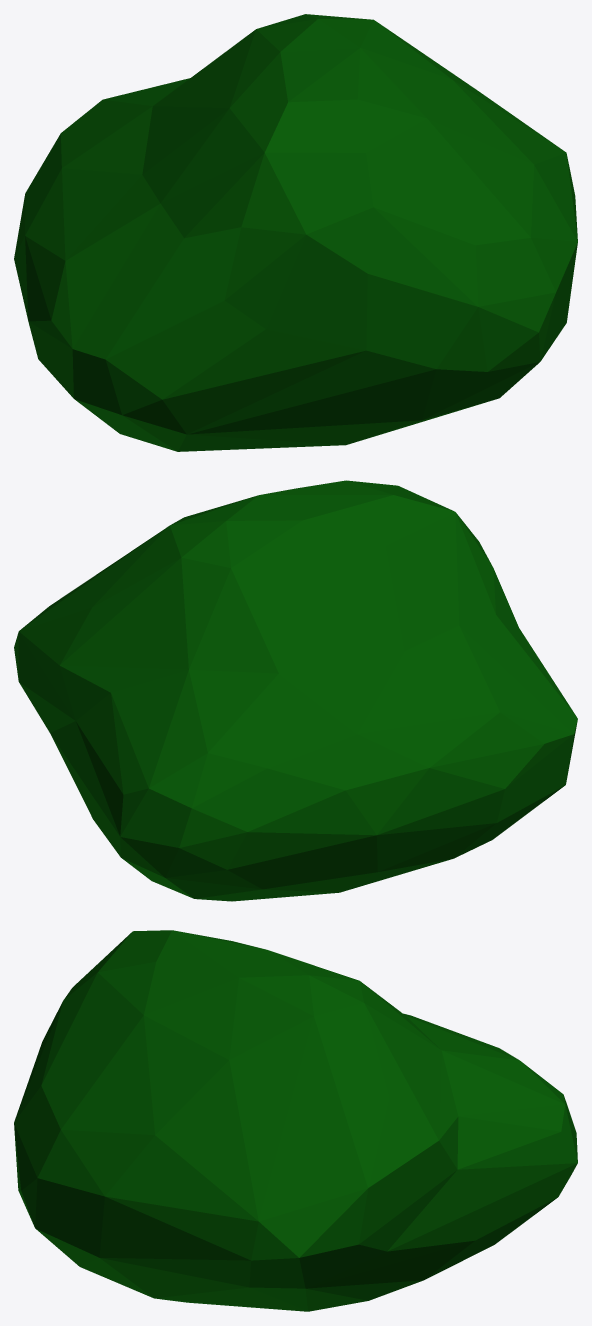
File: Arbusto_1.fbx
3 renders of one model, top to bottom at view 1: azimuth 30°, elevation 25°; view 2: azimuth 150°, elevation 25°; view 3: azimuth 270°, elevation 25°, orthographic. The views are drawn at different scales.
Visible parts, largest first — view 1: Arbusto_1; view 2: Arbusto_1; view 3: Arbusto_1.
Part boxes in pixels (x1,y1,x2,y2): Arbusto_1: (14, 14, 577, 451); Arbusto_1: (14, 480, 577, 901); Arbusto_1: (14, 930, 577, 1311).
Bounding box in the file's own units: 411 × 260 × 408.
